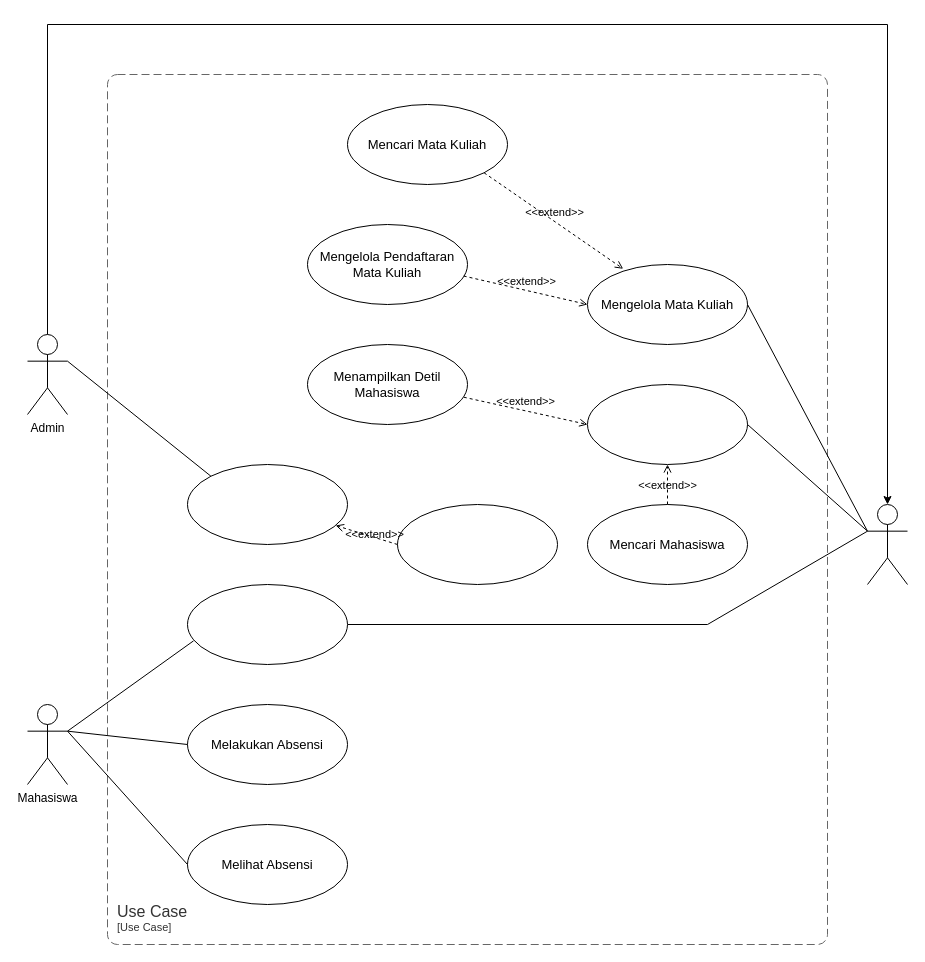
This 925x962 diagram has some shape labels left out. Here are the shapes that lost their labels. From the top down, the centre of each, then its label:
At (667,424): "Mengelola Mahasiswa".
At (267,504): "Mengelola Dosen".
At (477,544): "Mencari Dosen".
At (887,544): "Dosen".
At (267,624): "Login".
